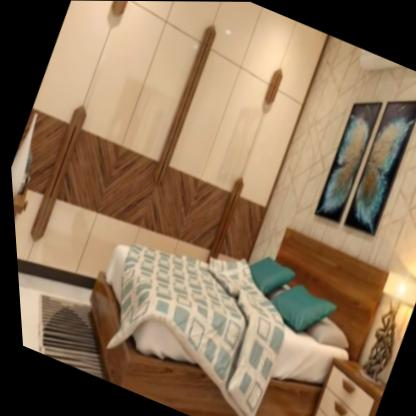Bed: (66, 171, 372, 416)
Closet: (0, 0, 186, 283)
Frame: (328, 80, 416, 242), (297, 83, 392, 233)
Lamp: (341, 262, 416, 378)
Nightstand: (280, 344, 389, 416)
